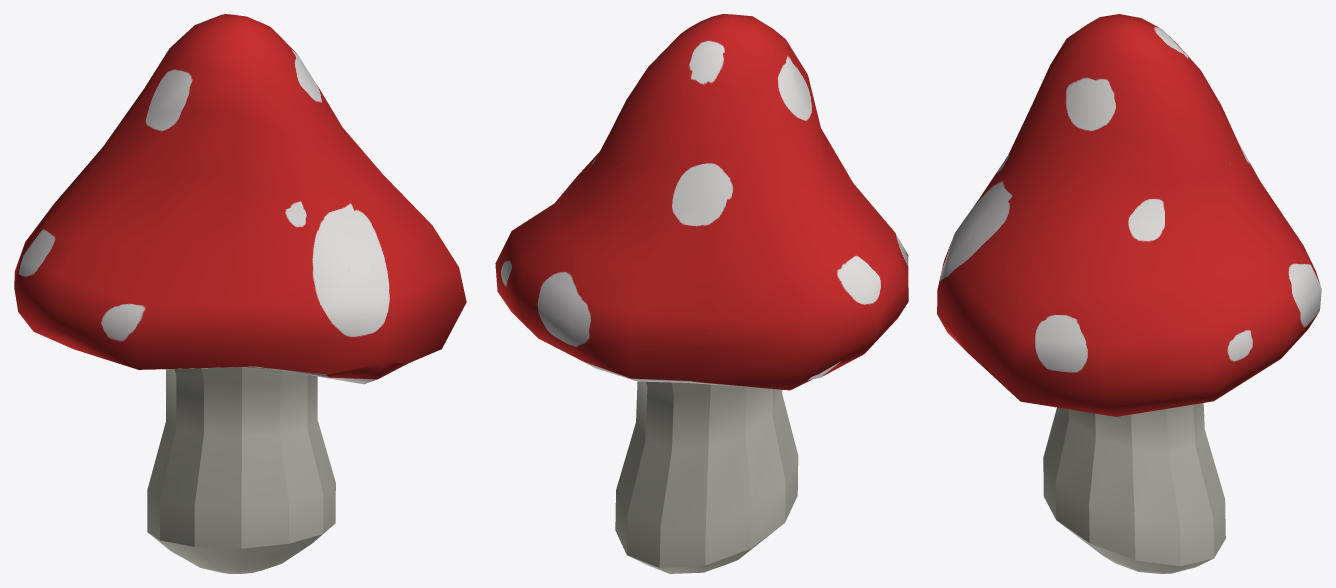
Rendered from paddestoel.fbx.
3 views of the same model, side by side, from view 1: azimuth 30°, elevation 25°; view 2: azimuth 150°, elevation 25°; view 3: azimuth 270°, elevation 25° (orthographic). The views are drawn at different scales.
Visible parts, largest first — view 1: pSphere1, pCylinder1; view 2: pSphere1, pCylinder1; view 3: pSphere1, pCylinder1.
Boxes of the visible parts, box(x1,y1,x2,y2) form: pSphere1: box(14, 14, 466, 384); pCylinder1: box(147, 367, 335, 573); pSphere1: box(495, 14, 908, 390); pCylinder1: box(615, 333, 798, 573); pSphere1: box(937, 14, 1321, 416); pCylinder1: box(1043, 403, 1225, 573).
Bounding box in the file's own units: 4.78 × 6.61 × 4.33.
